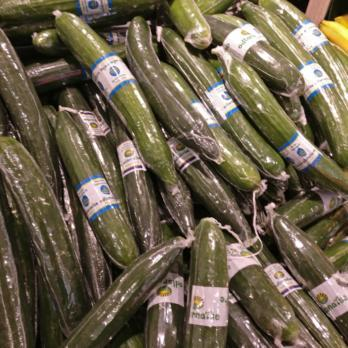Cucumber: (1, 1, 293, 348), (293, 41, 348, 348)
